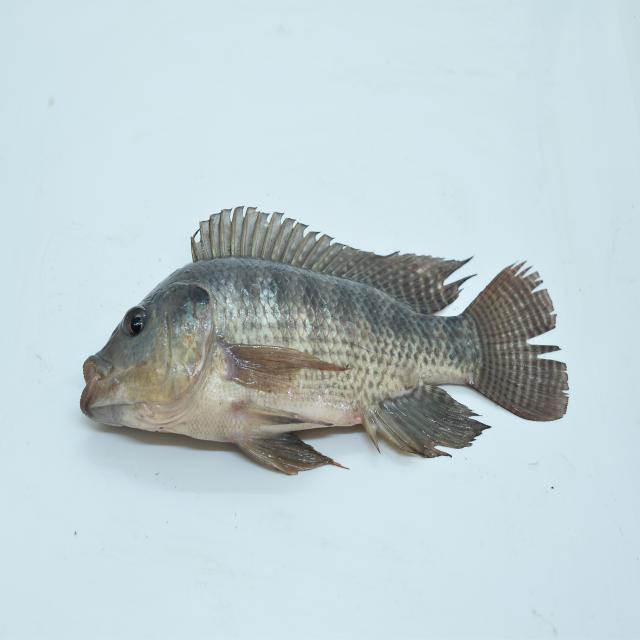Healthy Fish: (78, 202, 571, 479)
